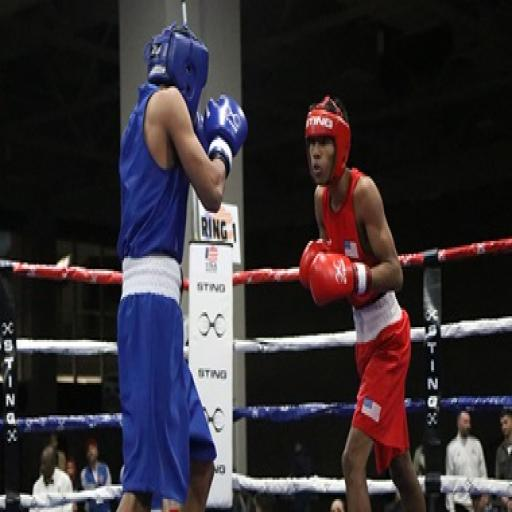boxing: (251, 97, 435, 512), (113, 15, 248, 510)
